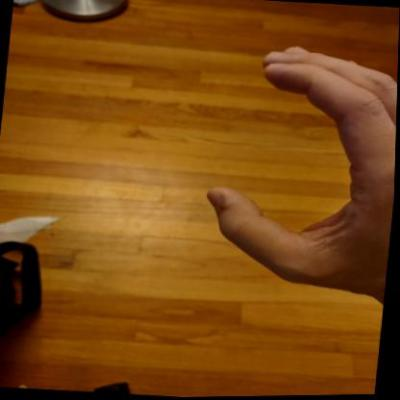hand: (191, 37, 398, 308)
